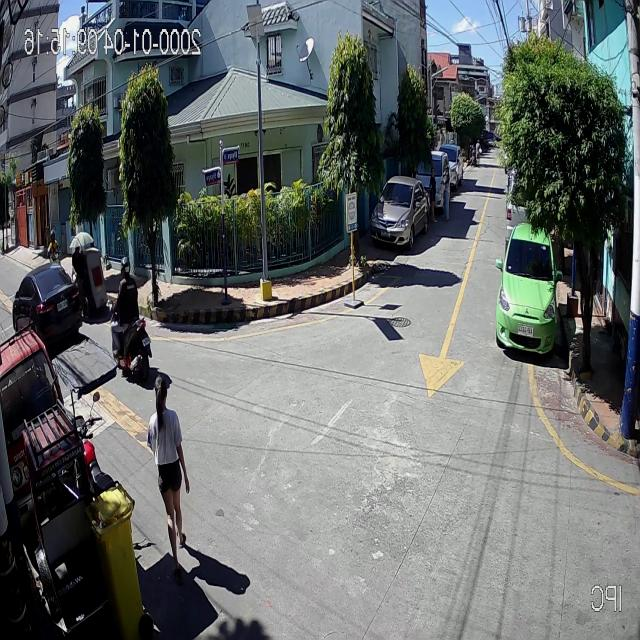standing: (439, 166, 452, 221), (427, 166, 438, 223), (474, 139, 482, 165)
walking: (146, 374, 190, 588)
